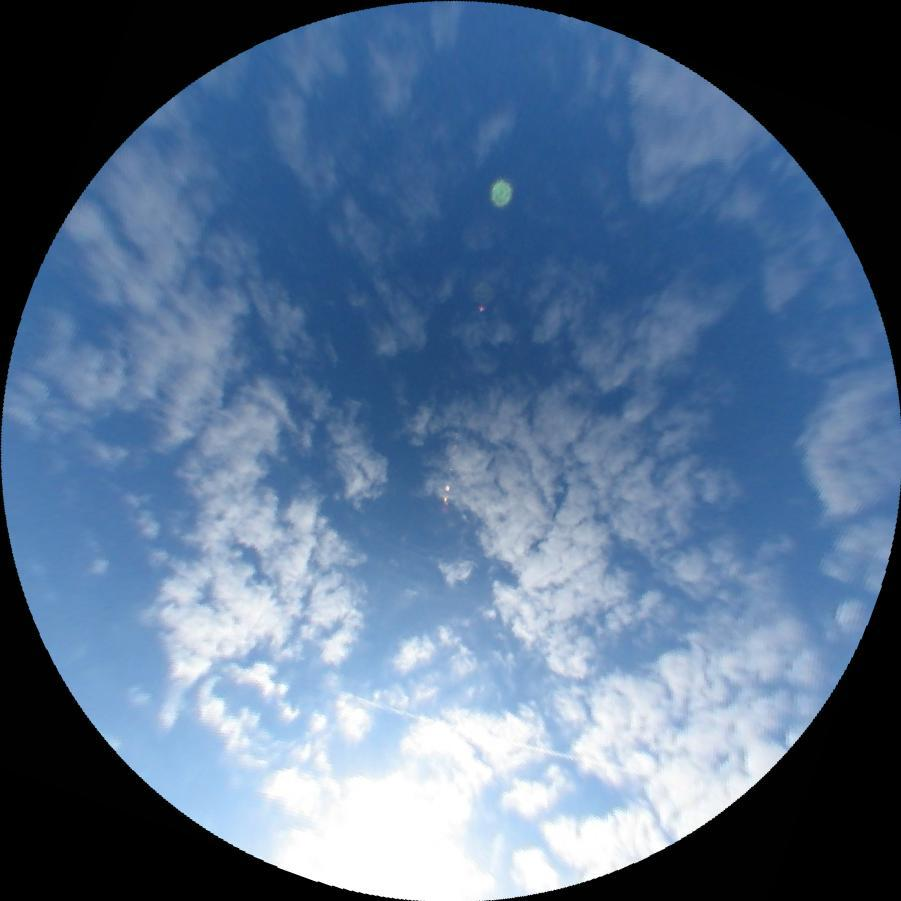contrail young: (331, 687, 639, 779)
